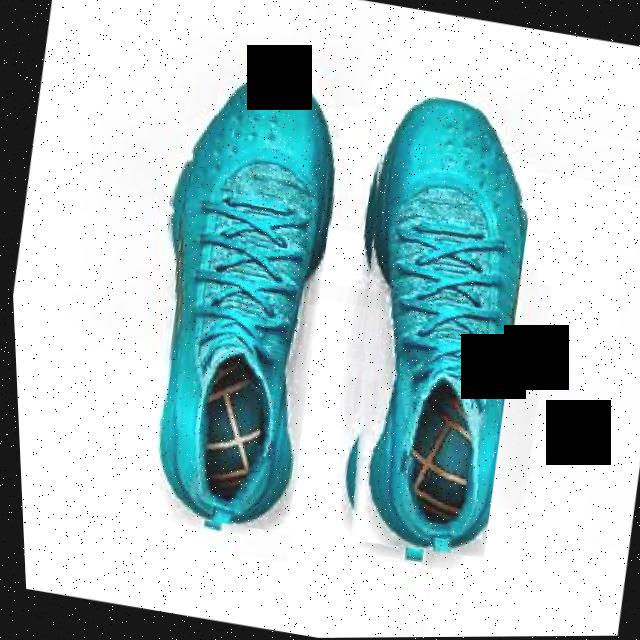shoe: (108, 55, 362, 535), (303, 87, 556, 564)
